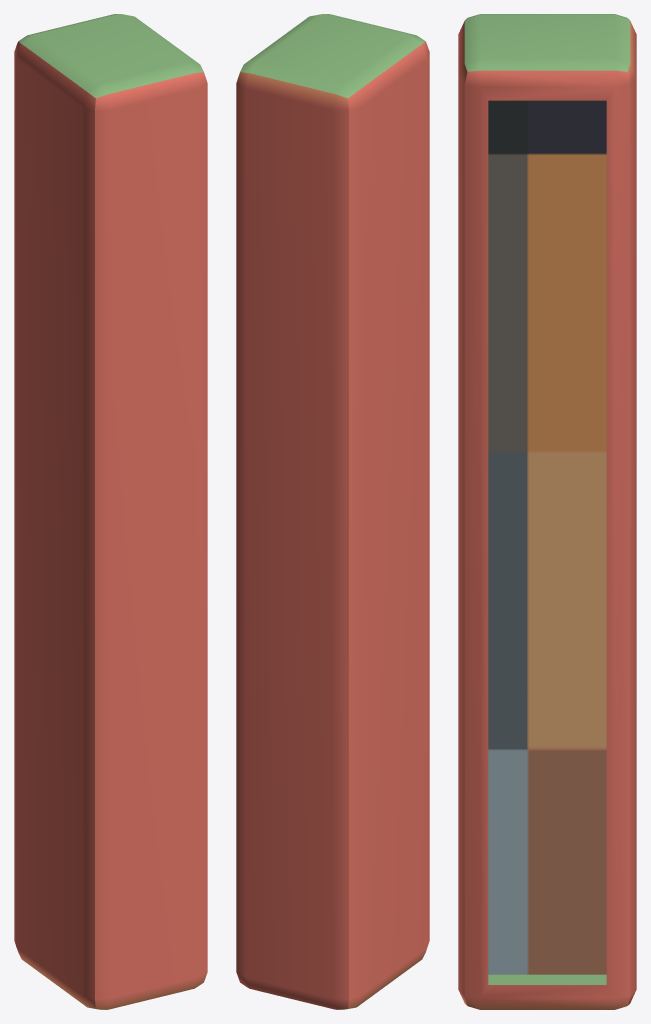
The model's file is BuildingSign_04.fbx.
3 views of the same model, side by side, from view 1: azimuth 30°, elevation 25°; view 2: azimuth 150°, elevation 25°; view 3: azimuth 270°, elevation 25° (orthographic). The views are drawn at different scales.
Parts seen in each view (by area): view 1: polySurface1047; view 2: polySurface1047; view 3: polySurface1047.
Part boxes in pixels (<box>): polySurface1047: <box>14,14,207,1009</box>; polySurface1047: <box>236,14,429,1009</box>; polySurface1047: <box>458,14,636,1009</box>.
Bounding box in the file's own units: 0.423 × 3.03 × 0.5149.
